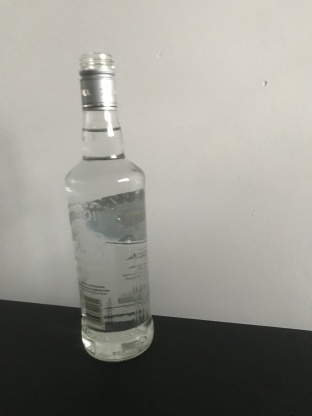nakretka: (76, 52, 119, 111)
